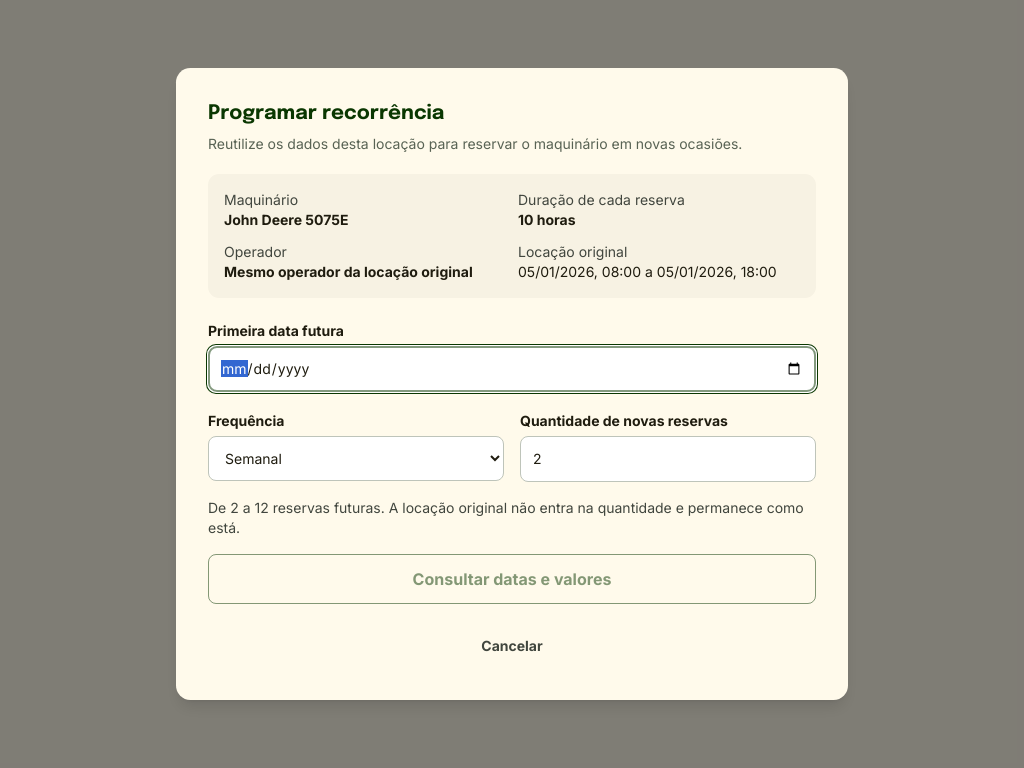
Test case: programar recorrência › changes the idempotency key only after scheduling parameters change
Step 1. Type "2099-10-05" into the date field labelled "Primeira data futura" → (512, 369), box x1=208 y1=346 x2=816 y2=392
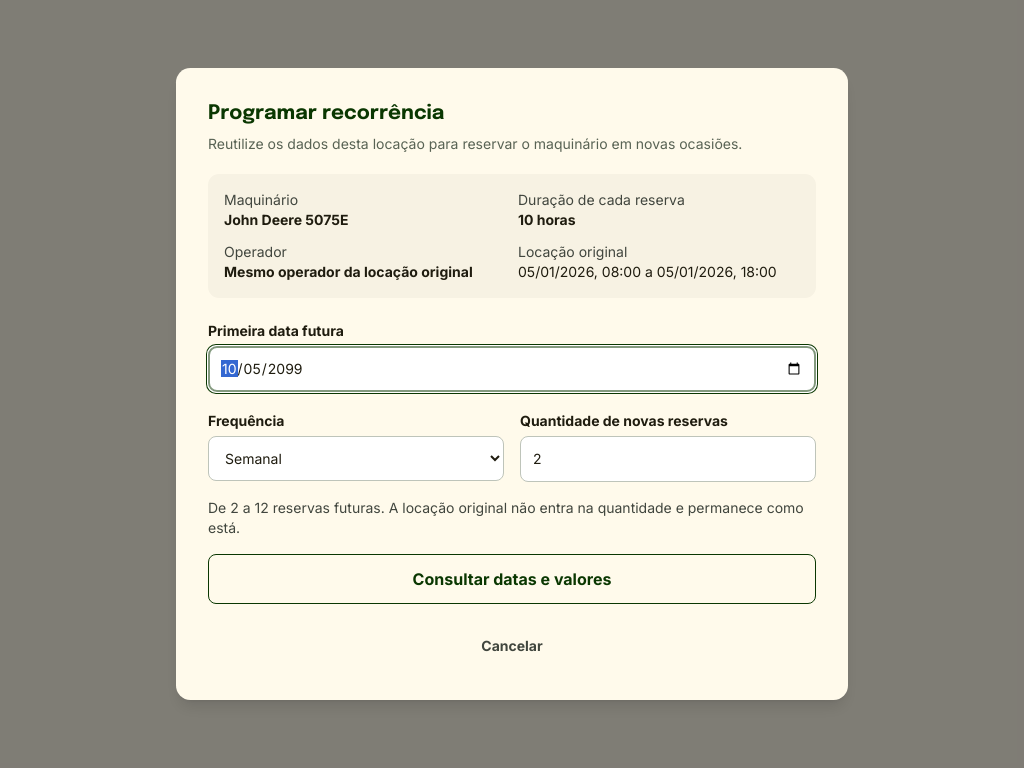
Step 2. Click the button "Consultar datas e valores" → (512, 579), box x1=208 y1=554 x2=816 y2=604
(page scrolled)
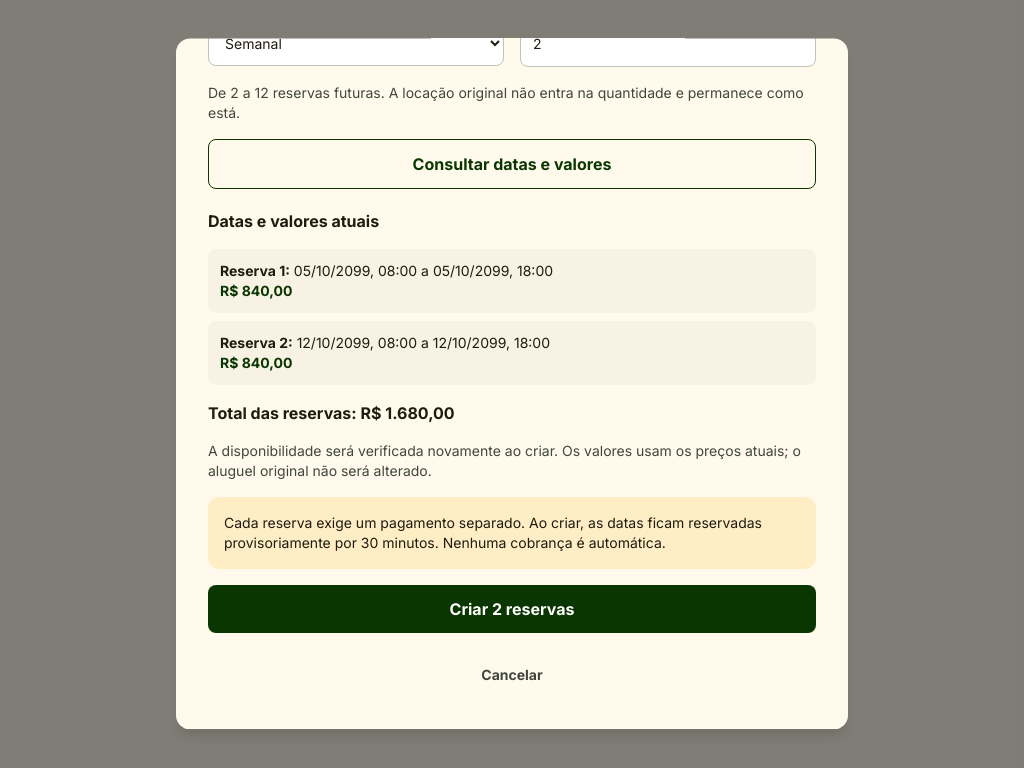
Expected: the element named "Prévia da recorrência" is shown, x1=208 y1=209 x2=816 y2=633
Step 3. Click the button "Criar 2 reservas" → (512, 609), box x1=208 y1=585 x2=816 y2=633
(page scrolled)
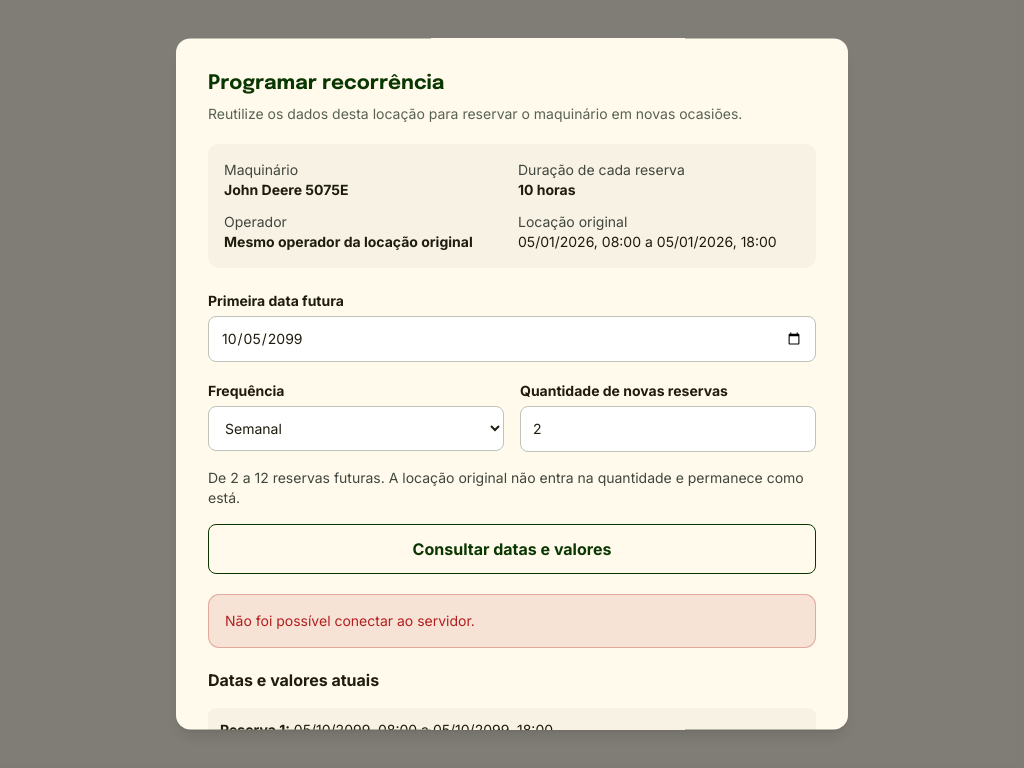
Expected: the message "Não foi possível conectar ao servidor." is shown, x1=208 y1=594 x2=816 y2=648
Step 4. Type "2099-10-06" into the date field labelled "Primeira data futura" → (512, 339), box x1=208 y1=316 x2=816 y2=362
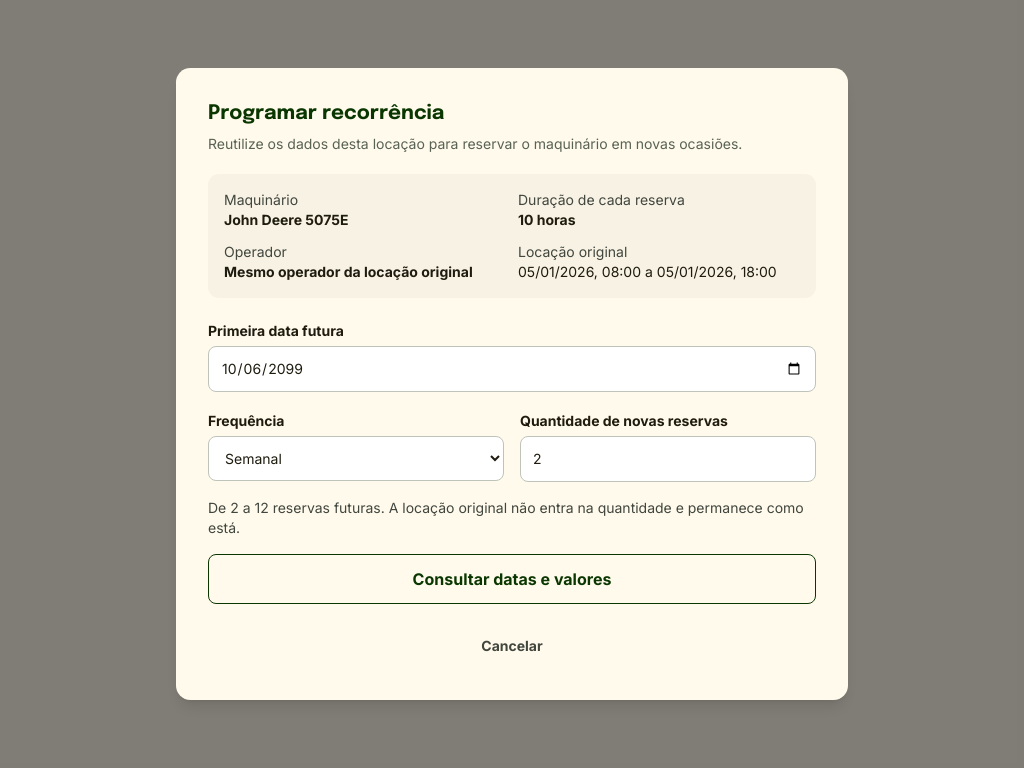
Expected: the message "Não foi possível conectar ao servidor." is gone
Step 5. Click the button "Consultar datas e valores" → (512, 579), box x1=208 y1=554 x2=816 y2=604
(page scrolled)
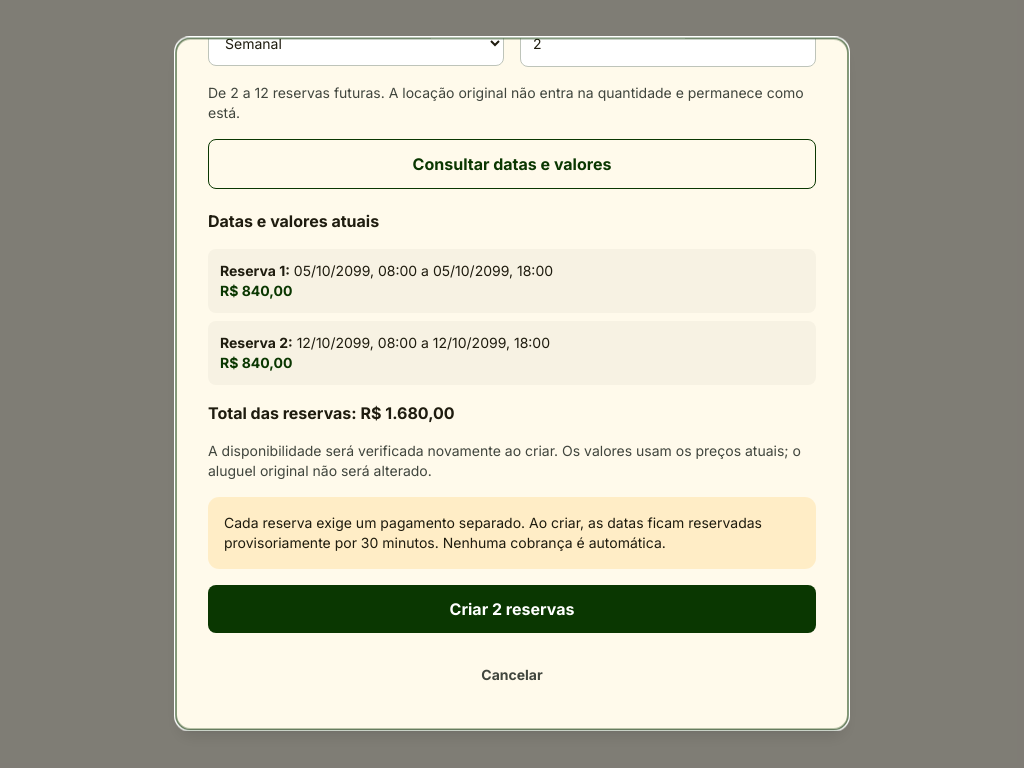
Expected: the button "Criar 2 reservas" is shown
Step 6. Click the button "Criar 2 reservas" → (512, 609), box x1=208 y1=585 x2=816 y2=633
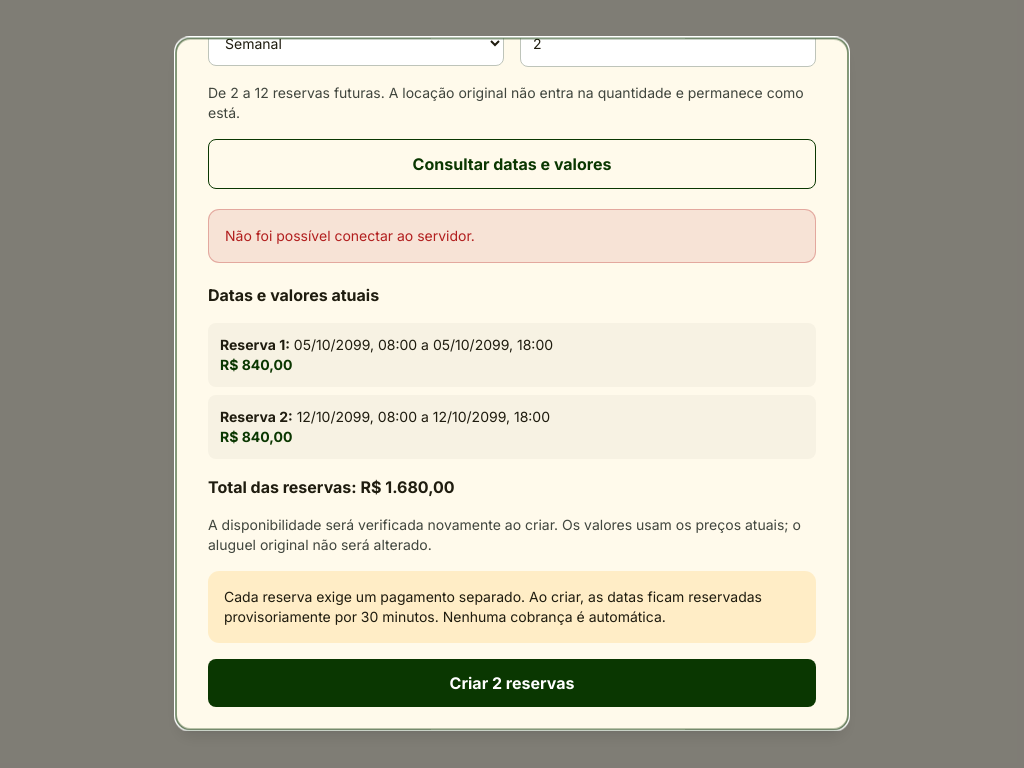
Expected: the message "Não foi possível conectar ao servidor." is shown, x1=208 y1=209 x2=816 y2=263
